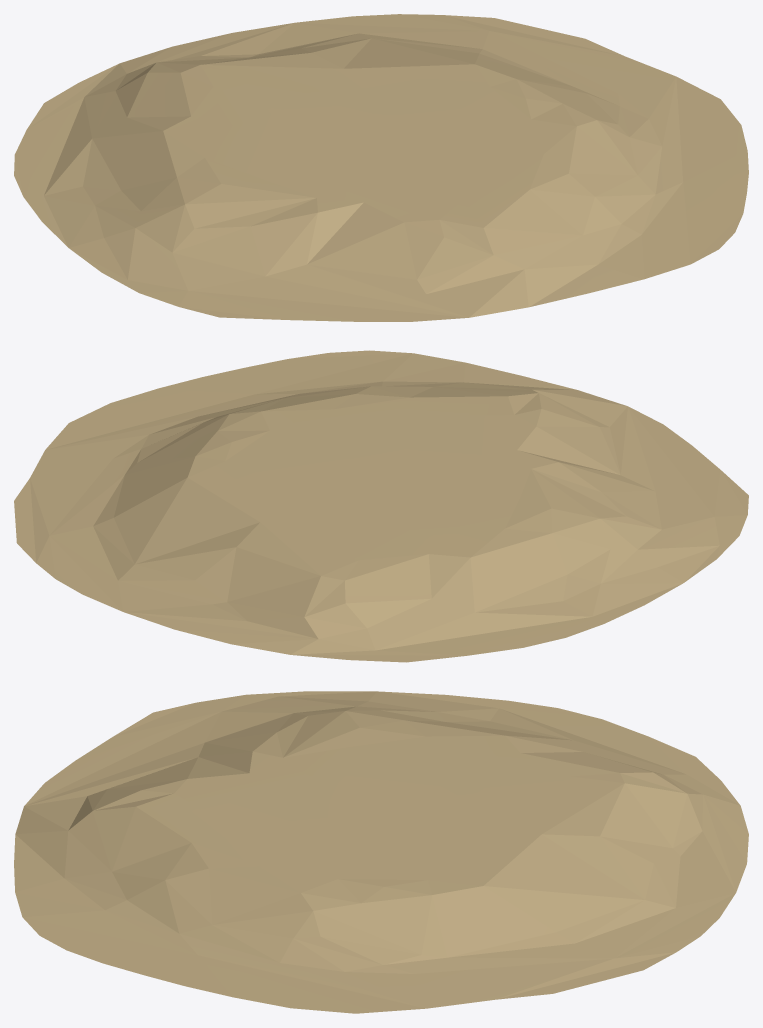
File: SM_Env_Beach_01.glb
The picture shows the model from 3 angles, top to bottom: view 1: azimuth 30°, elevation 25°; view 2: azimuth 150°, elevation 25°; view 3: azimuth 270°, elevation 25°; orthographic projection. The views are drawn at different scales.
Parts seen in each view (by area): view 1: SM_Env_Beach_01; view 2: SM_Env_Beach_01; view 3: SM_Env_Beach_01.
Boxes of the visible parts, x1,y1,x2,y2 form: SM_Env_Beach_01: (14,14,748,321); SM_Env_Beach_01: (14,350,748,662); SM_Env_Beach_01: (14,691,748,1013).
Size of the model in its own units: 0.2357 by 0.0123 by 0.227.
1 material, 1 textured.
